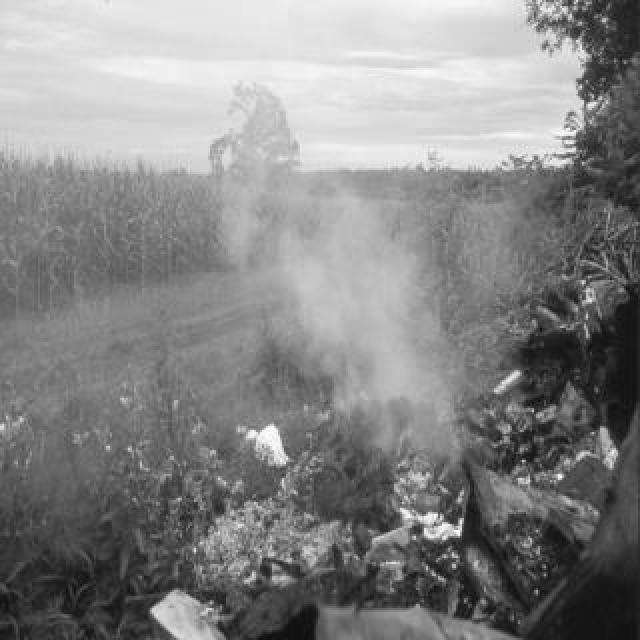Smoke: (212, 76, 462, 484)
